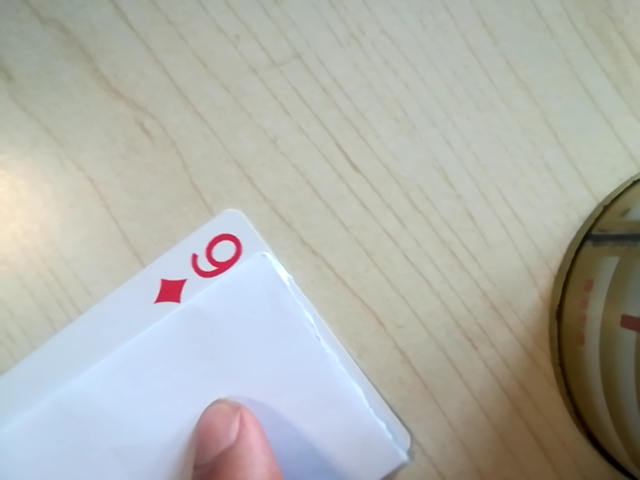fk 9: (141, 232, 257, 310)
